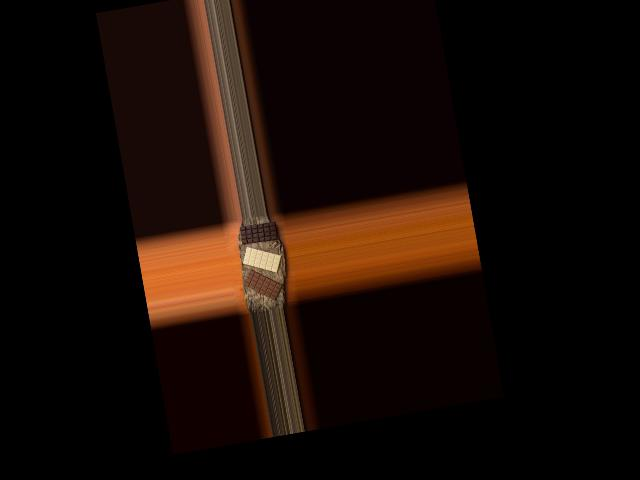chocolate: (239, 220, 278, 245)
